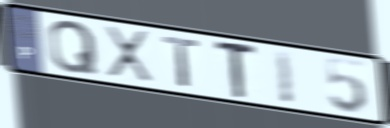5: (324, 53, 370, 117)
I: (272, 47, 297, 106)
Q: (46, 19, 101, 76)
T: (214, 40, 260, 101), (160, 34, 203, 90)
X: (101, 23, 156, 87)
